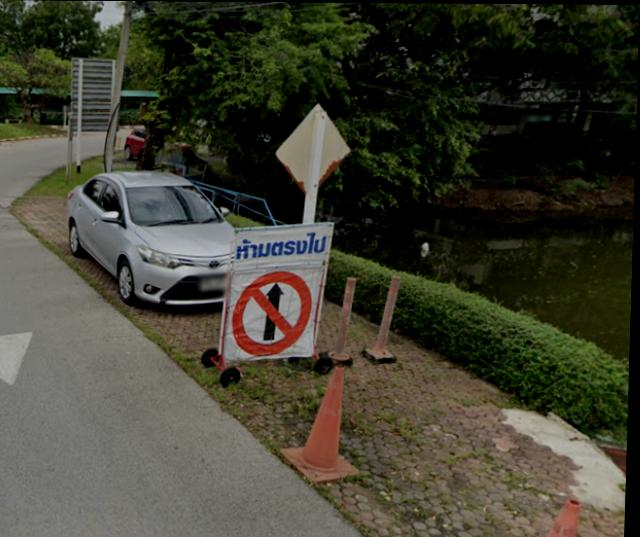not_go_straight: (237, 271, 314, 354)
